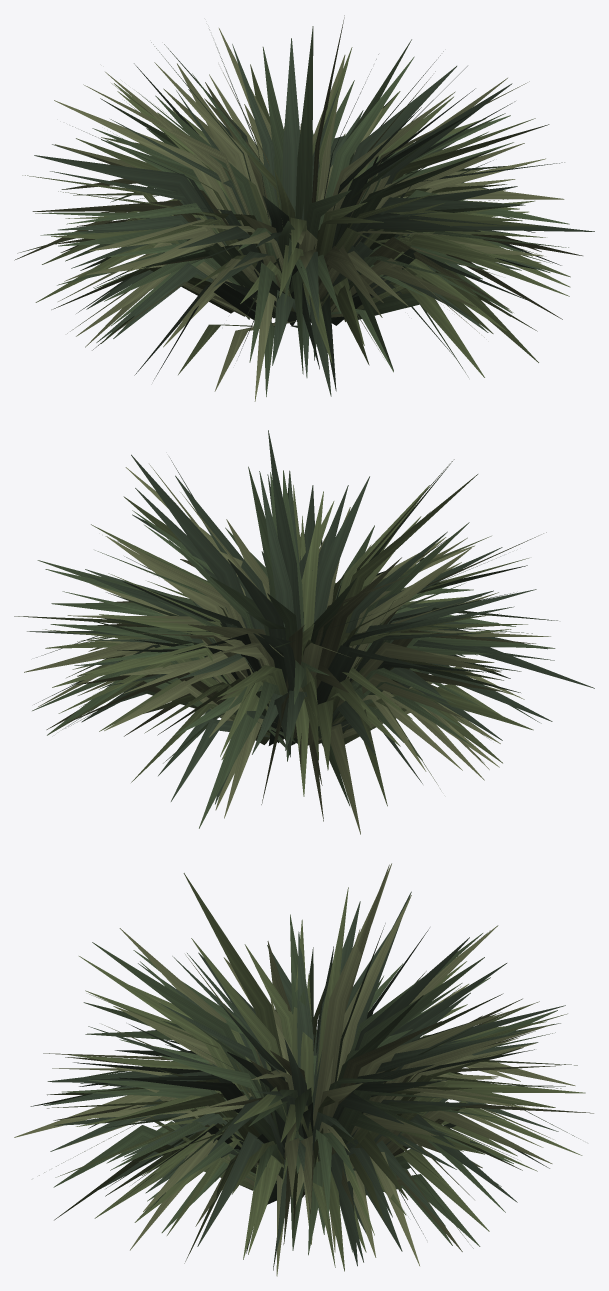
The model's file is alpine_tussock_v03_LOD1.fbx.
3 views of the same model, one above another, from view 1: azimuth 30°, elevation 25°; view 2: azimuth 150°, elevation 25°; view 3: azimuth 270°, elevation 25° (orthographic). The views are drawn at different scales.
Parts seen in each view (by area): view 1: alpine_tussock_v03_LOD1; view 2: alpine_tussock_v03_LOD1; view 3: alpine_tussock_v03_LOD1.
Part boxes in pixels (bbox=[...]): alpine_tussock_v03_LOD1: bbox=[14, 15, 594, 401]; alpine_tussock_v03_LOD1: bbox=[14, 430, 594, 834]; alpine_tussock_v03_LOD1: bbox=[14, 863, 593, 1276].
Size of the model in its own units: 41.23 by 41.85 by 19.46.
1 material, 1 textured.
